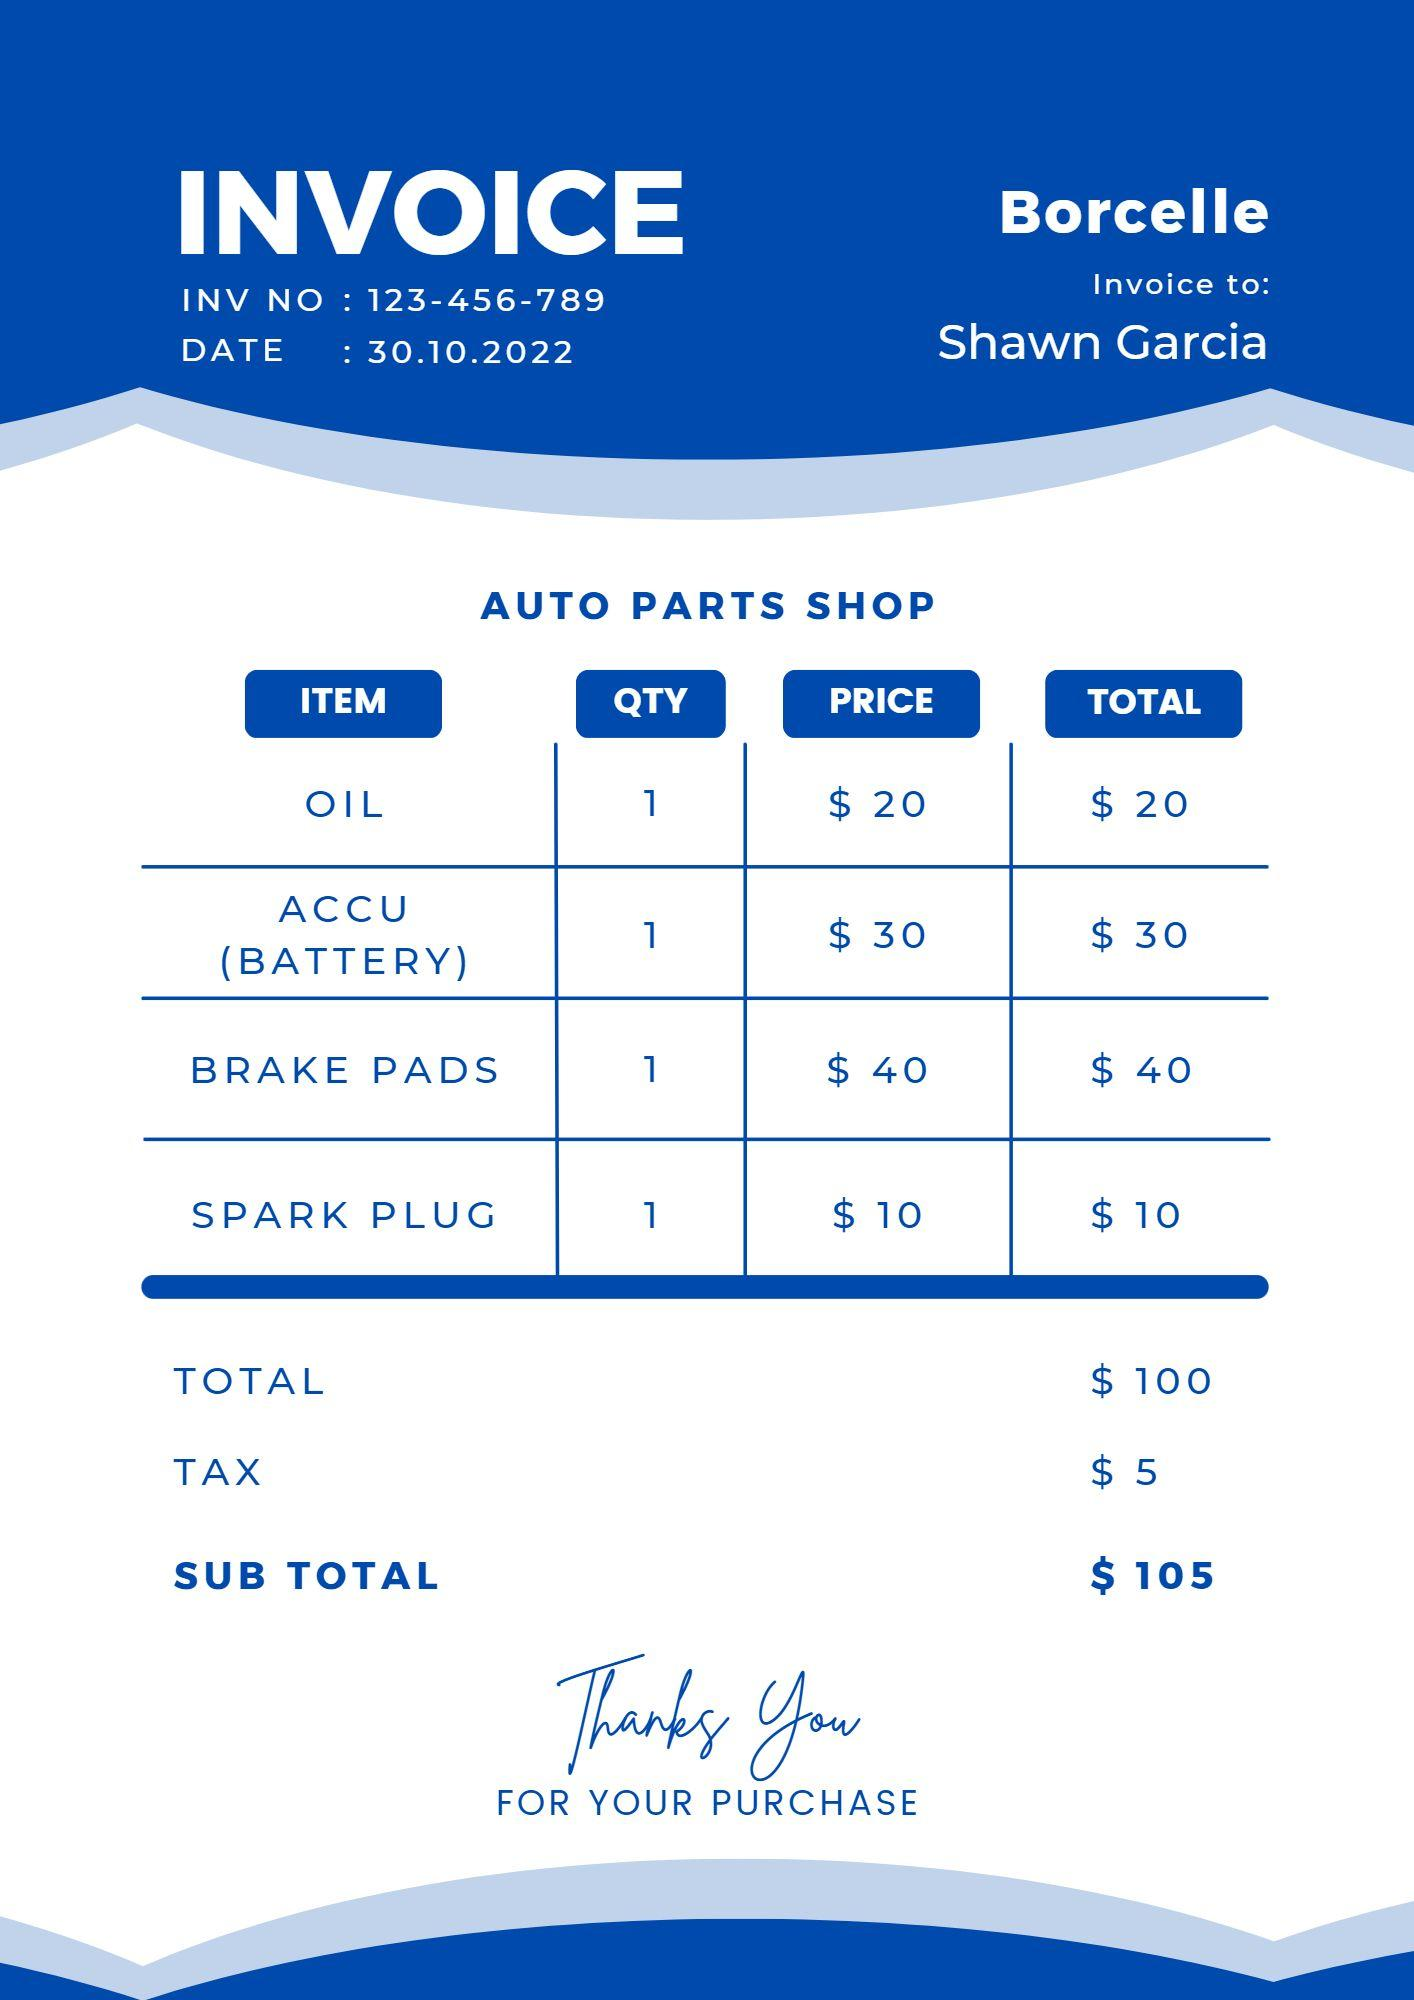ROI: (145, 652, 1261, 1299)
